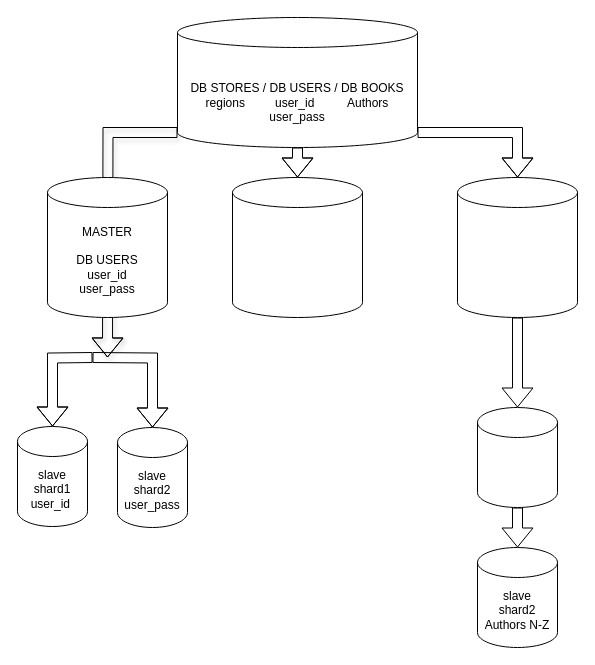
This 595x665 diagram has some shape labels left out. The centre of each missing label's shape, as x and y in pixels:
MASTER DB BOOKS Authors: (x=517, y=247)
MASTER DB STORES regions: (x=297, y=247)
slave shard1 Authors A-M: (x=517, y=457)
